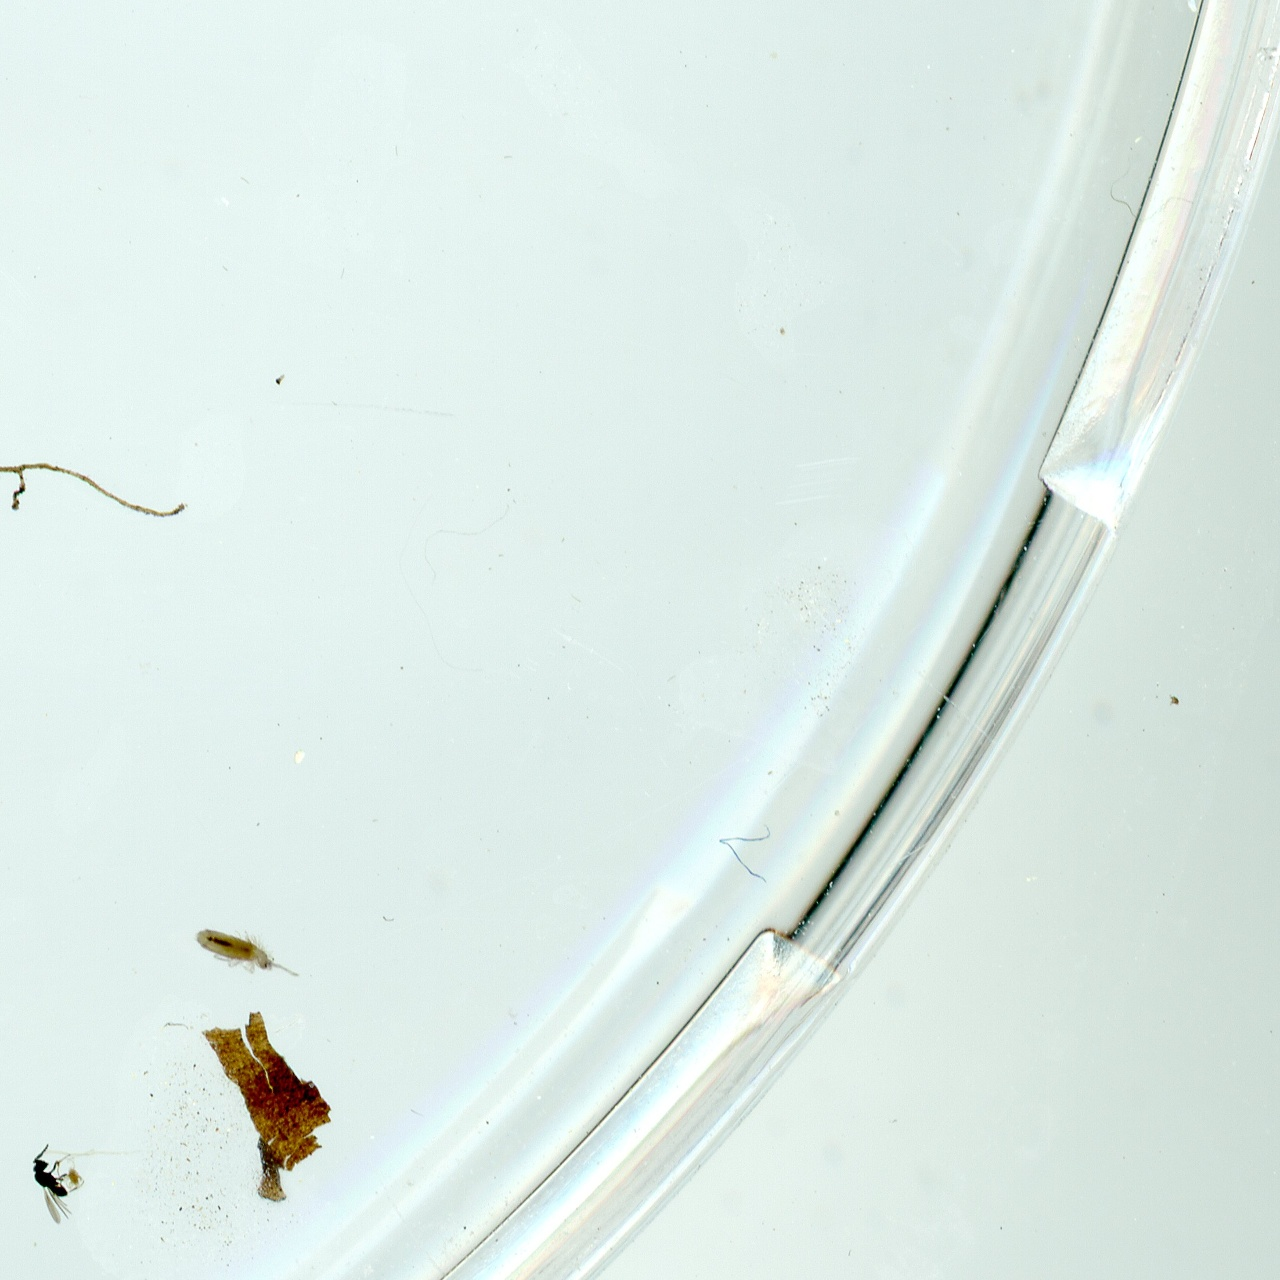arthropod: (193, 922, 302, 978), (27, 1141, 79, 1227)
